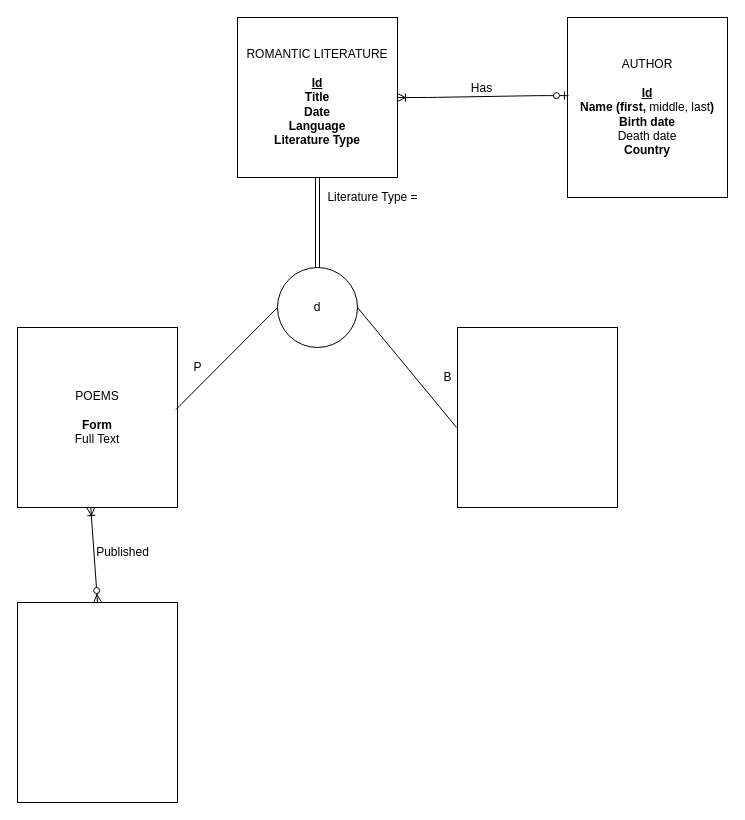
The diagram is 745 pixels wide and 820 high, and some of its shapes have lost their labels. Here are the shapes that lost their labels. From the top down, the centre of each, then its label:
At (537,417): "BOOK Number of pages Plot summary".
At (97,702): "COLLECTION Id Title Full name of editor(s) {first, last}".
